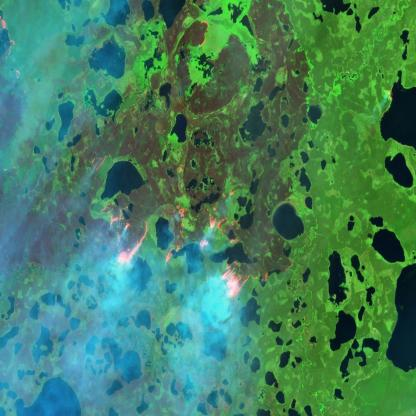fire: (91, 149, 294, 303)
